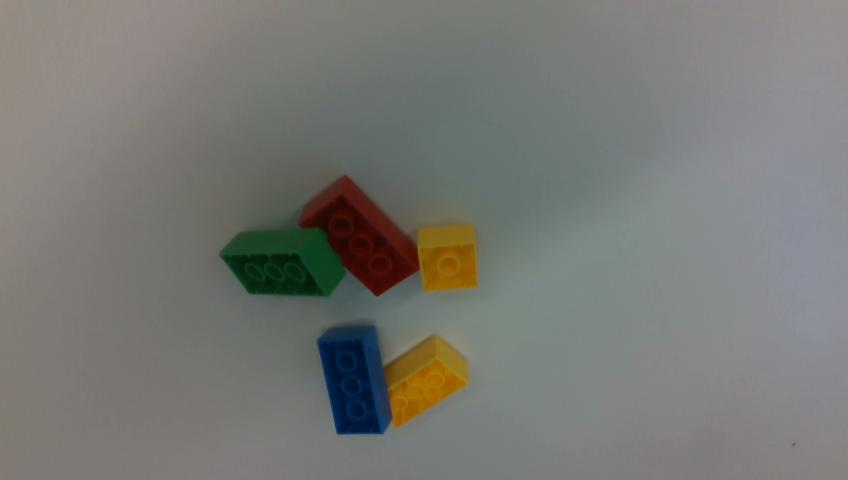2x2_yellow: (418, 224, 477, 291)
4x2_blue: (317, 325, 390, 434)
4x2_green: (220, 229, 343, 296)
4x2_red: (299, 176, 418, 297)
4x2_yellow: (385, 335, 468, 427)
